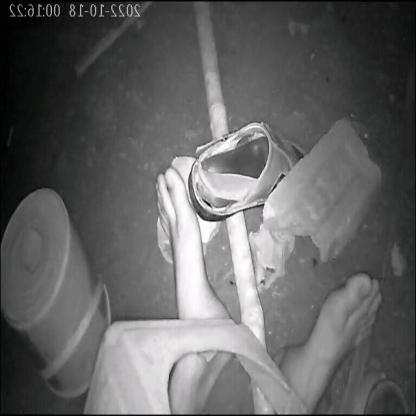leg: (142, 148, 242, 416), (269, 264, 389, 414)
